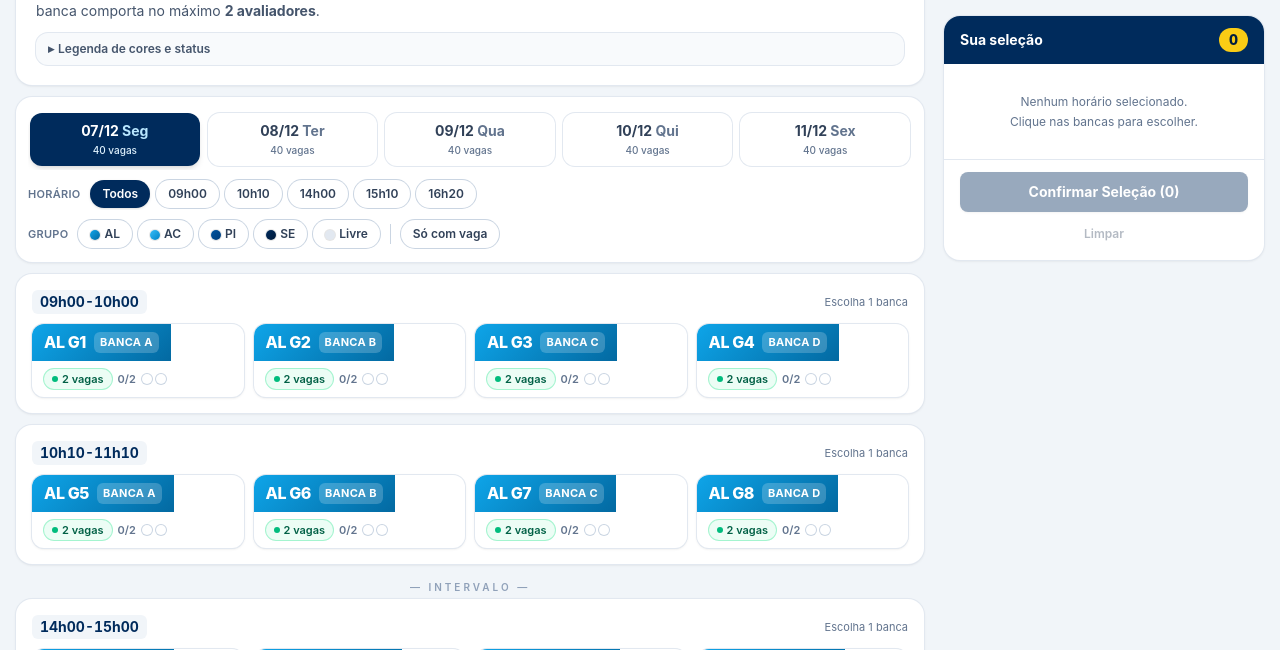
Test: fluxo do participante (UI, modo local) › chips da barra inferior podem ser removidos e "Limpar" zera a seleção
(page scrolled)
Click the button "AL G1 Banca A 2 vagas 0/2" at (138, 360), box [32,324,244,397]
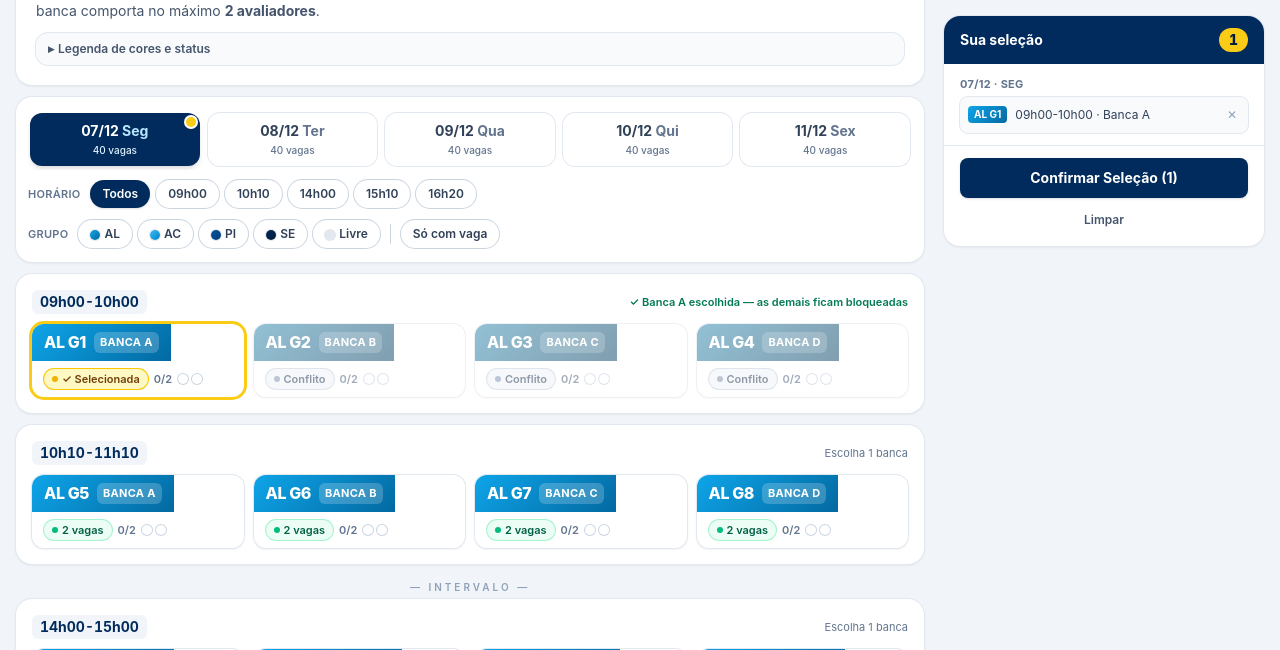
Click the button "AL G5 Banca A 2 vagas 0/2" at (138, 512), box [32,475,244,548]
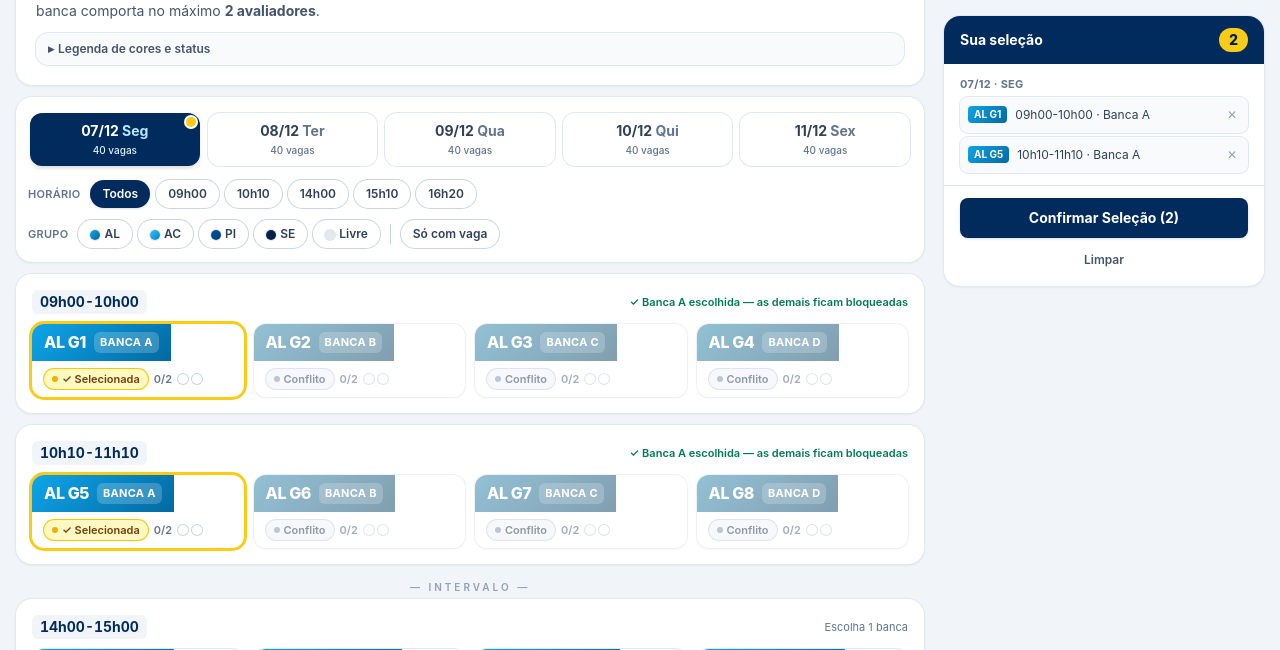
Expected: the button "Confirmar Seleção (2)" is shown, [960,198,1248,238]
Click the button named "Remover 07/12 · 09h00-10h00 · Banca A" at (1232, 114), box [1220,102,1244,126]
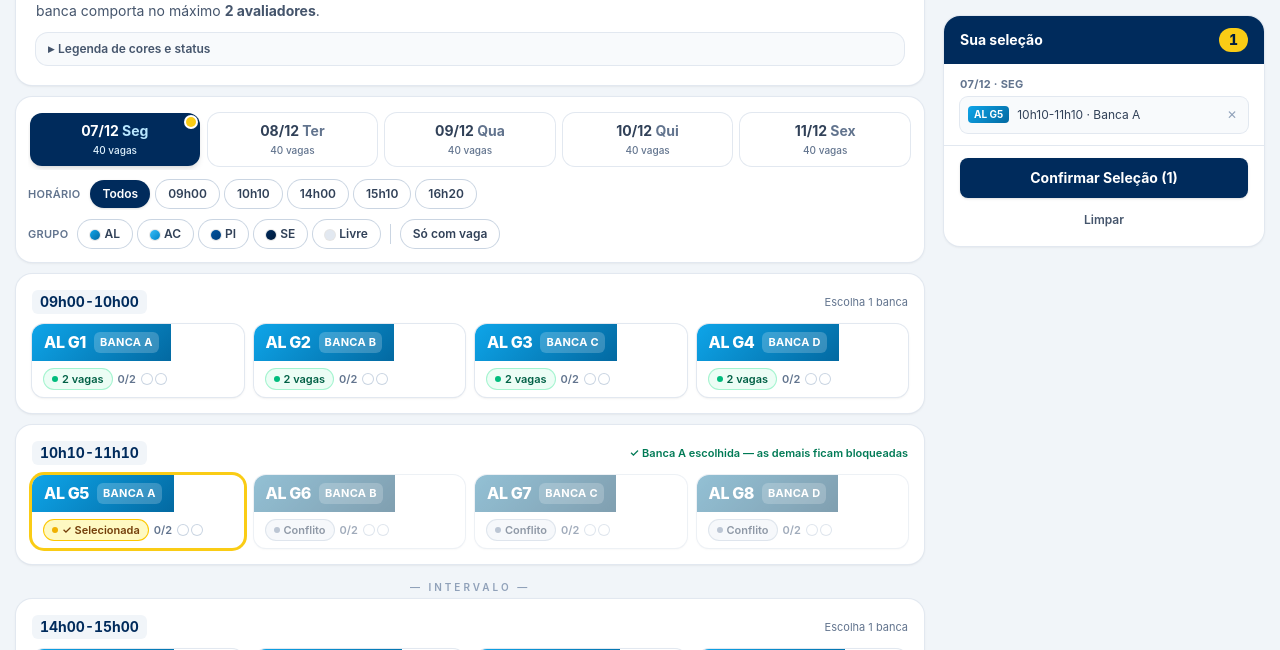
Expected: the button "Confirmar Seleção (1)" is shown, [960,158,1248,198]
Click the button "Limpar" at (1104, 220), box [960,206,1248,234]
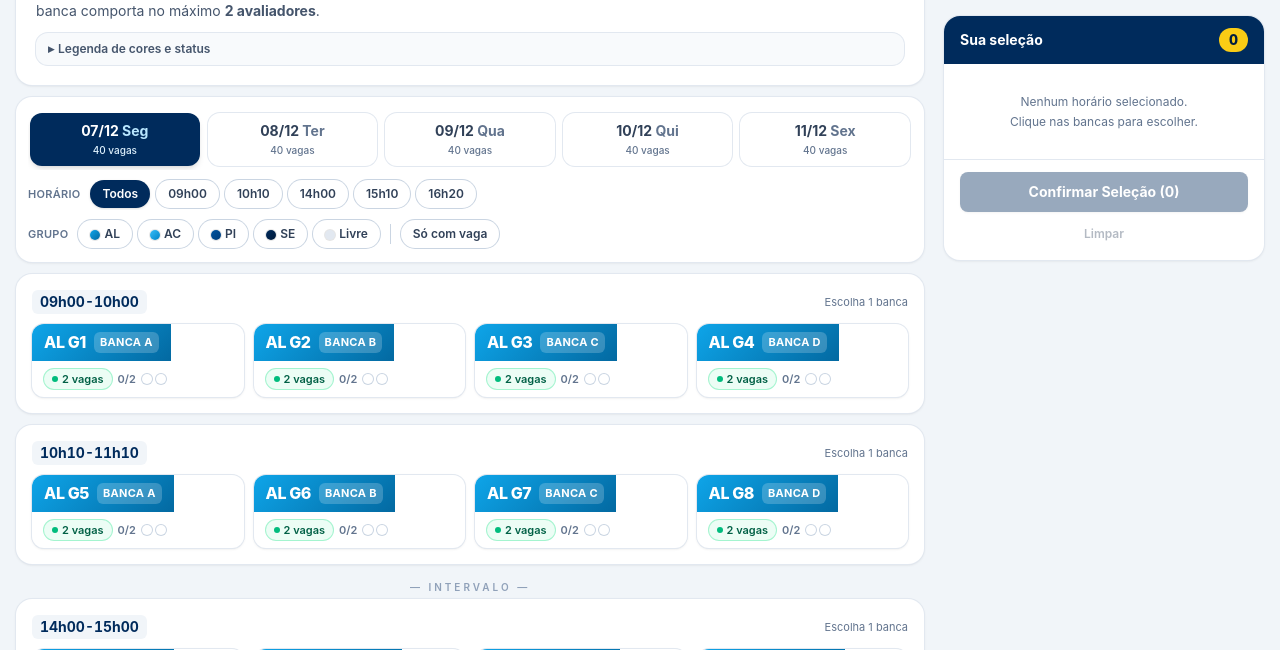
Expected: the button "Confirmar Seleção (0)" is shown, [960,172,1248,212]
